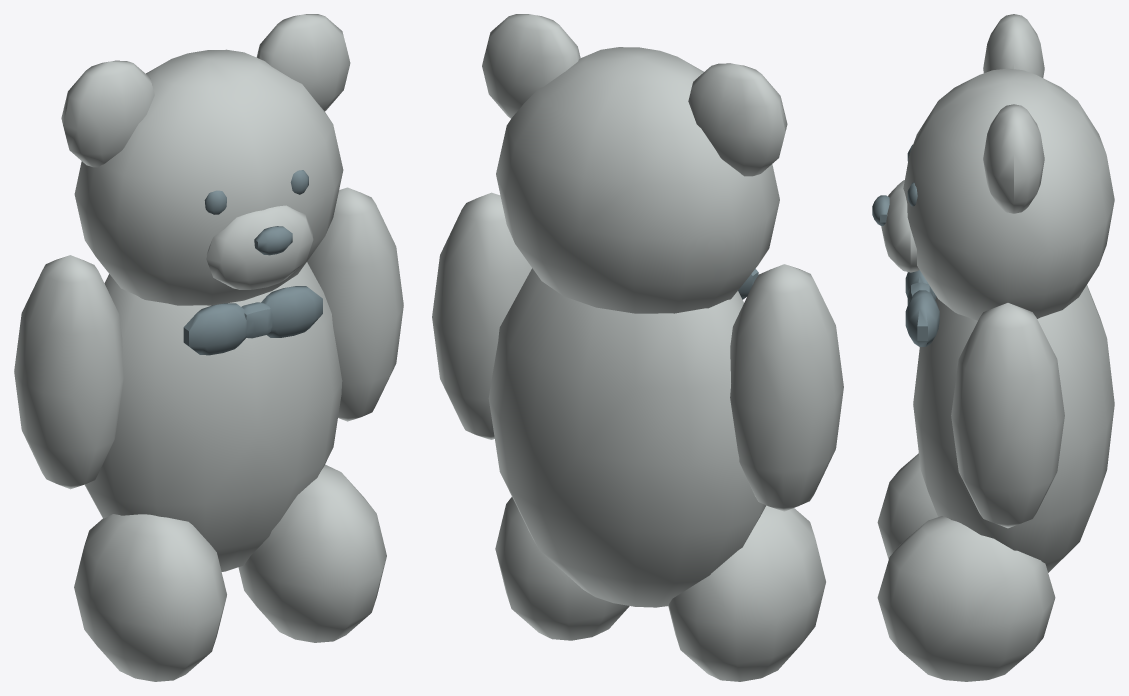
Rendered from teddy-bear.glb.
The picture shows the model from 3 angles, left to right: view 1: azimuth 30°, elevation 25°; view 2: azimuth 150°, elevation 25°; view 3: azimuth 270°, elevation 25°; orthographic projection. The views are drawn at different scales.
Visible parts, largest first — view 1: stuffed_body, head, foot, arm, foot.001, arm.001, round_ear, muzzle, round_ear.001, bow_loop, bow_loop.001, ribbon_knot (+1 smaller); view 2: stuffed_body, head, arm, foot, arm.001, foot.001, round_ear, round_ear.001; view 3: head, stuffed_body, foot.001, arm.001, round_ear.001, foot, round_ear, muzzle, bow_loop.001, nose.
Boxes of the visible parts, box(x1,y1,x2,y2) form: stuffed_body: box(85, 262, 342, 571); head: box(74, 49, 343, 305); foot: box(74, 514, 226, 681); arm: box(14, 255, 123, 489); foot.001: box(238, 464, 386, 642); arm.001: box(307, 187, 403, 421); round_ear: box(61, 60, 154, 167); muzzle: box(206, 205, 313, 289); round_ear.001: box(256, 14, 350, 111); bow_loop: box(183, 303, 246, 355); bow_loop.001: box(261, 286, 322, 337); ribbon_knot: box(241, 302, 272, 338); stuffed_body: box(488, 268, 766, 607); head: box(496, 47, 779, 313); arm: box(730, 264, 843, 511); foot: box(668, 505, 825, 681); arm.001: box(432, 192, 531, 439); foot.001: box(495, 497, 629, 640); round_ear: box(688, 63, 787, 176); round_ear.001: box(482, 14, 580, 118); head: box(903, 68, 1114, 320); stuffed_body: box(913, 285, 1114, 572); foot.001: box(877, 516, 1055, 681); arm.001: box(951, 303, 1064, 528); round_ear.001: box(983, 104, 1044, 213); foot: box(877, 453, 937, 559); round_ear: box(983, 14, 1044, 77); muzzle: box(881, 180, 919, 272); bow_loop.001: box(905, 290, 939, 346); nose: box(872, 195, 889, 225).
Bounding box in the file's own units: 0.35 × 0.537 × 0.2045.
